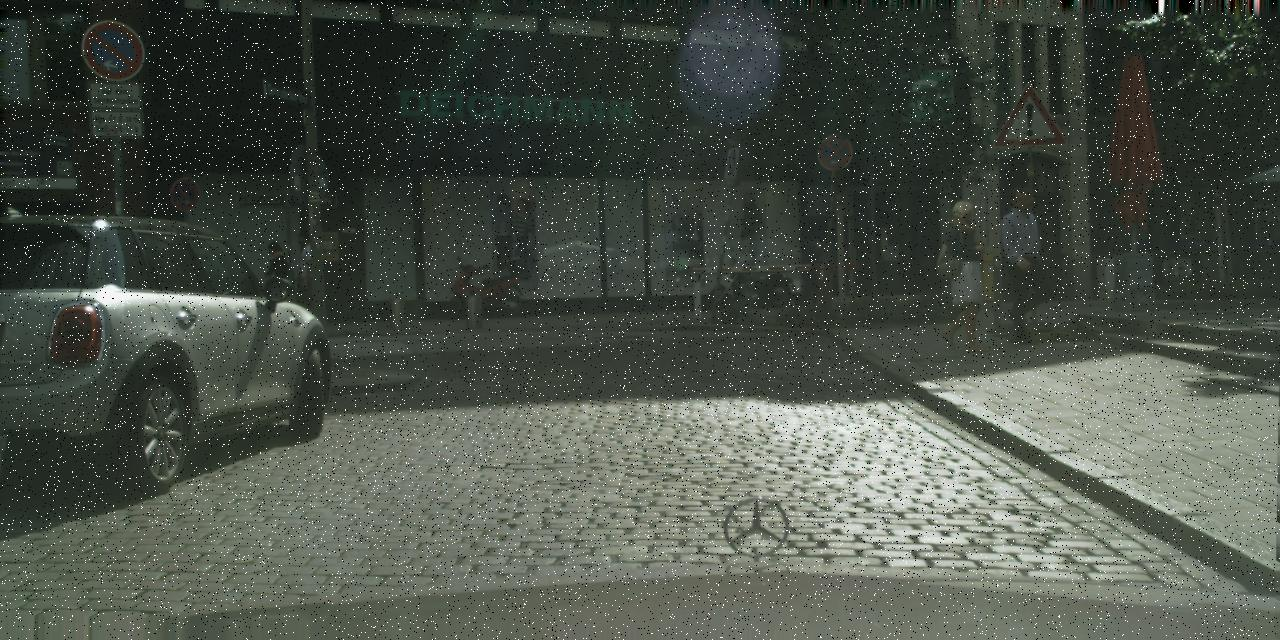ped: (933, 201, 993, 350), (990, 186, 1049, 332), (285, 230, 326, 332), (257, 240, 294, 332), (794, 232, 825, 309)
